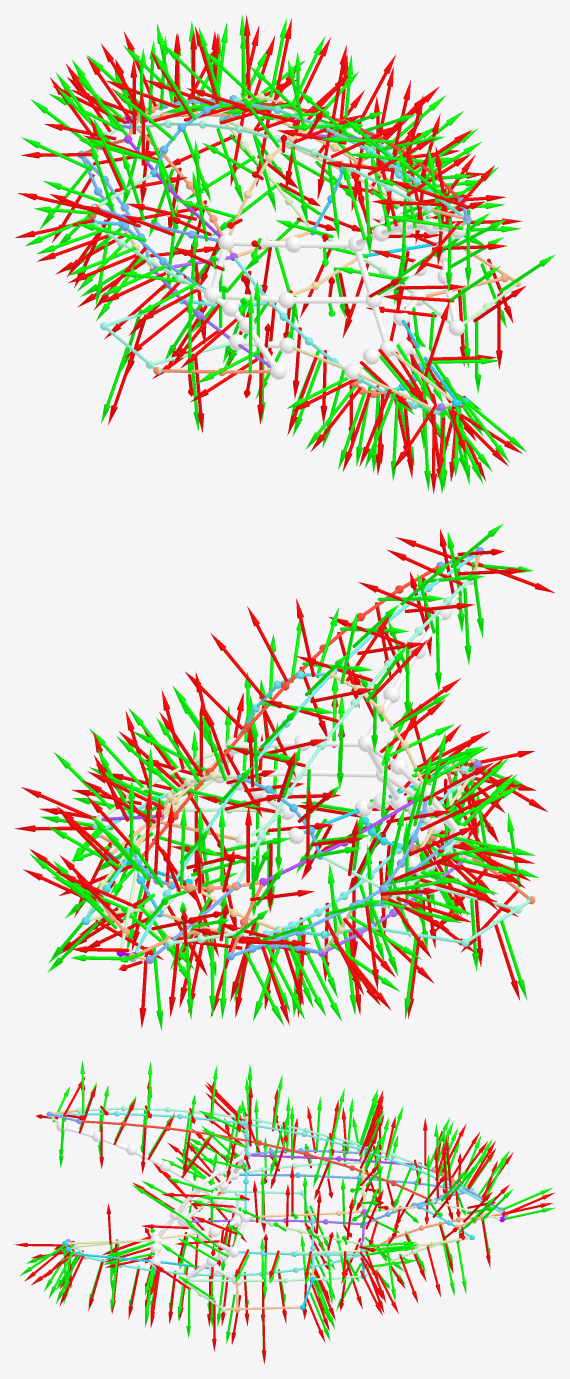
Rendered from ils_spacecraft_78.gltf.
The picture shows the model from 3 angles, top to bottom: view 1: azimuth 30°, elevation 25°; view 2: azimuth 150°, elevation 25°; view 3: azimuth 270°, elevation 25°; orthographic projection. The views are drawn at different scales.
Size of the model in its own units: 0.585 by 0.49 by 0.9609.
